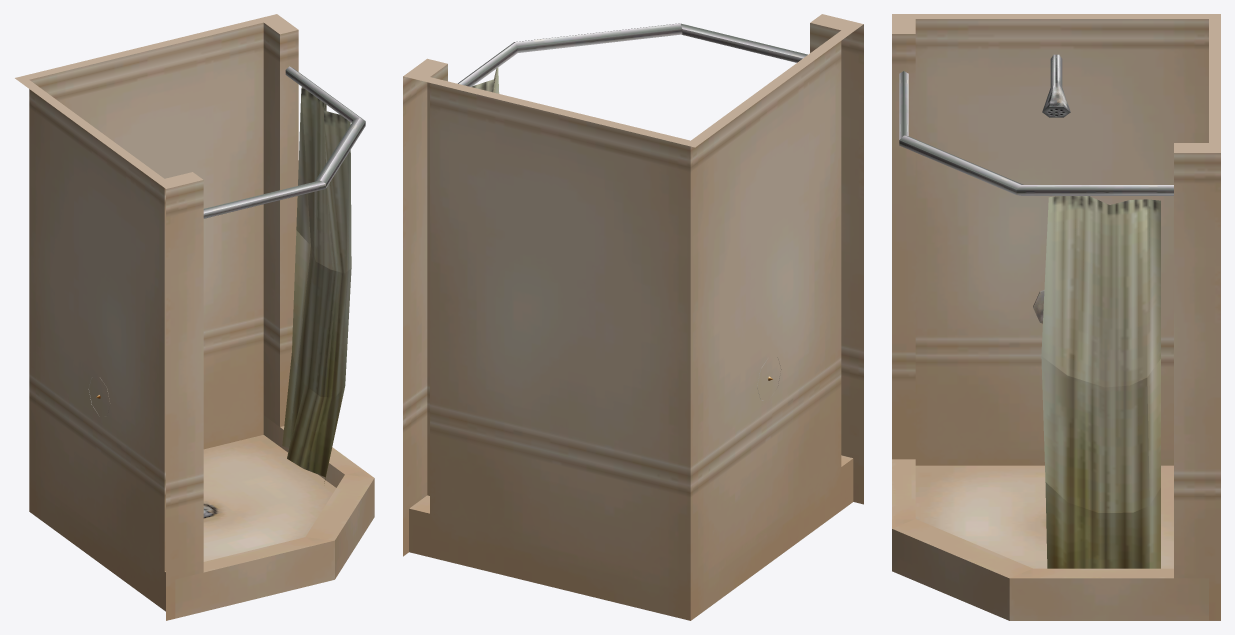
The model's file is showerstall.fbx.
3 renders of one model, left to right at view 1: azimuth 30°, elevation 25°; view 2: azimuth 150°, elevation 25°; view 3: azimuth 270°, elevation 25°, orthographic. The views are drawn at different scales.
Visible parts, largest first — view 1: mesh_0; view 2: mesh_0; view 3: mesh_0.
Boxes of the visible parts, x1,y1,x2,y2 form: mesh_0: (15,14,374,620); mesh_0: (403,14,863,620); mesh_0: (892,14,1220,620).
Bounding box in the file's own units: 140 × 220 × 140.
1 material, 1 textured.
